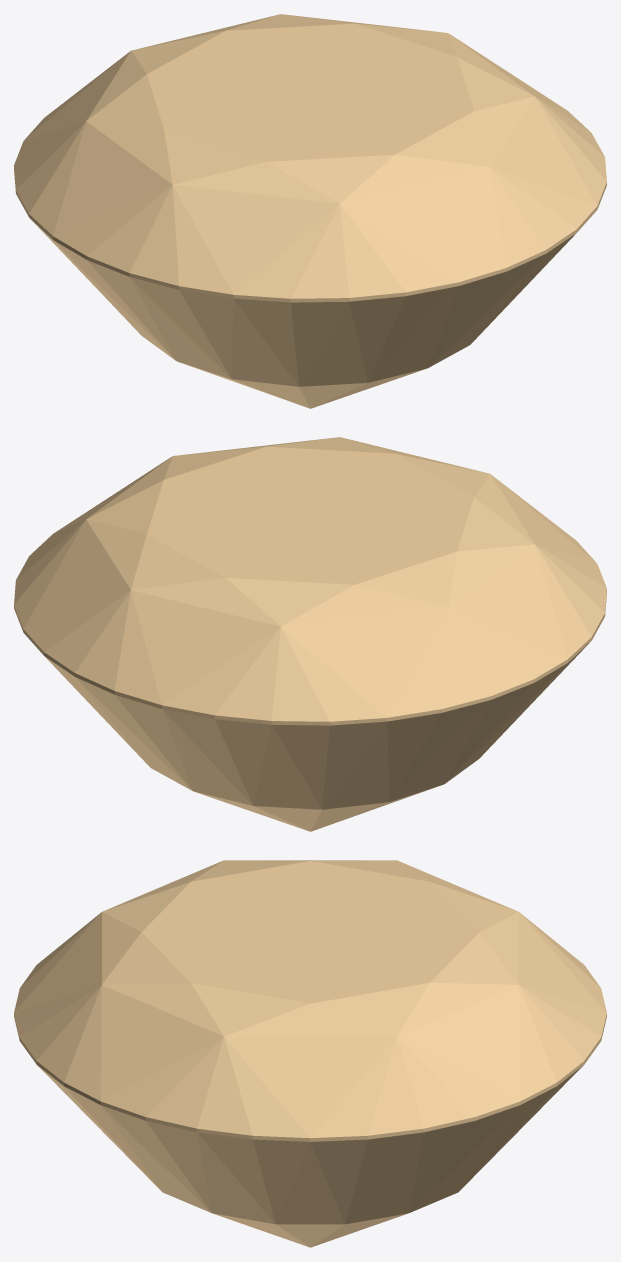
File: jewelry.glb
The picture shows the model from 3 angles, top to bottom: view 1: azimuth 30°, elevation 25°; view 2: azimuth 150°, elevation 25°; view 3: azimuth 270°, elevation 25°; orthographic projection.
Parts seen in each view (by area): view 1: Gemstone Zircon; view 2: Gemstone Zircon; view 3: Gemstone Zircon.
Boxes of the visible parts, <box> form: Gemstone Zircon: <box>14,14,606,408</box>; Gemstone Zircon: <box>14,437,606,831</box>; Gemstone Zircon: <box>14,860,606,1247</box>.
Size of the model in its own units: 2.2 by 1.29 by 2.2.
